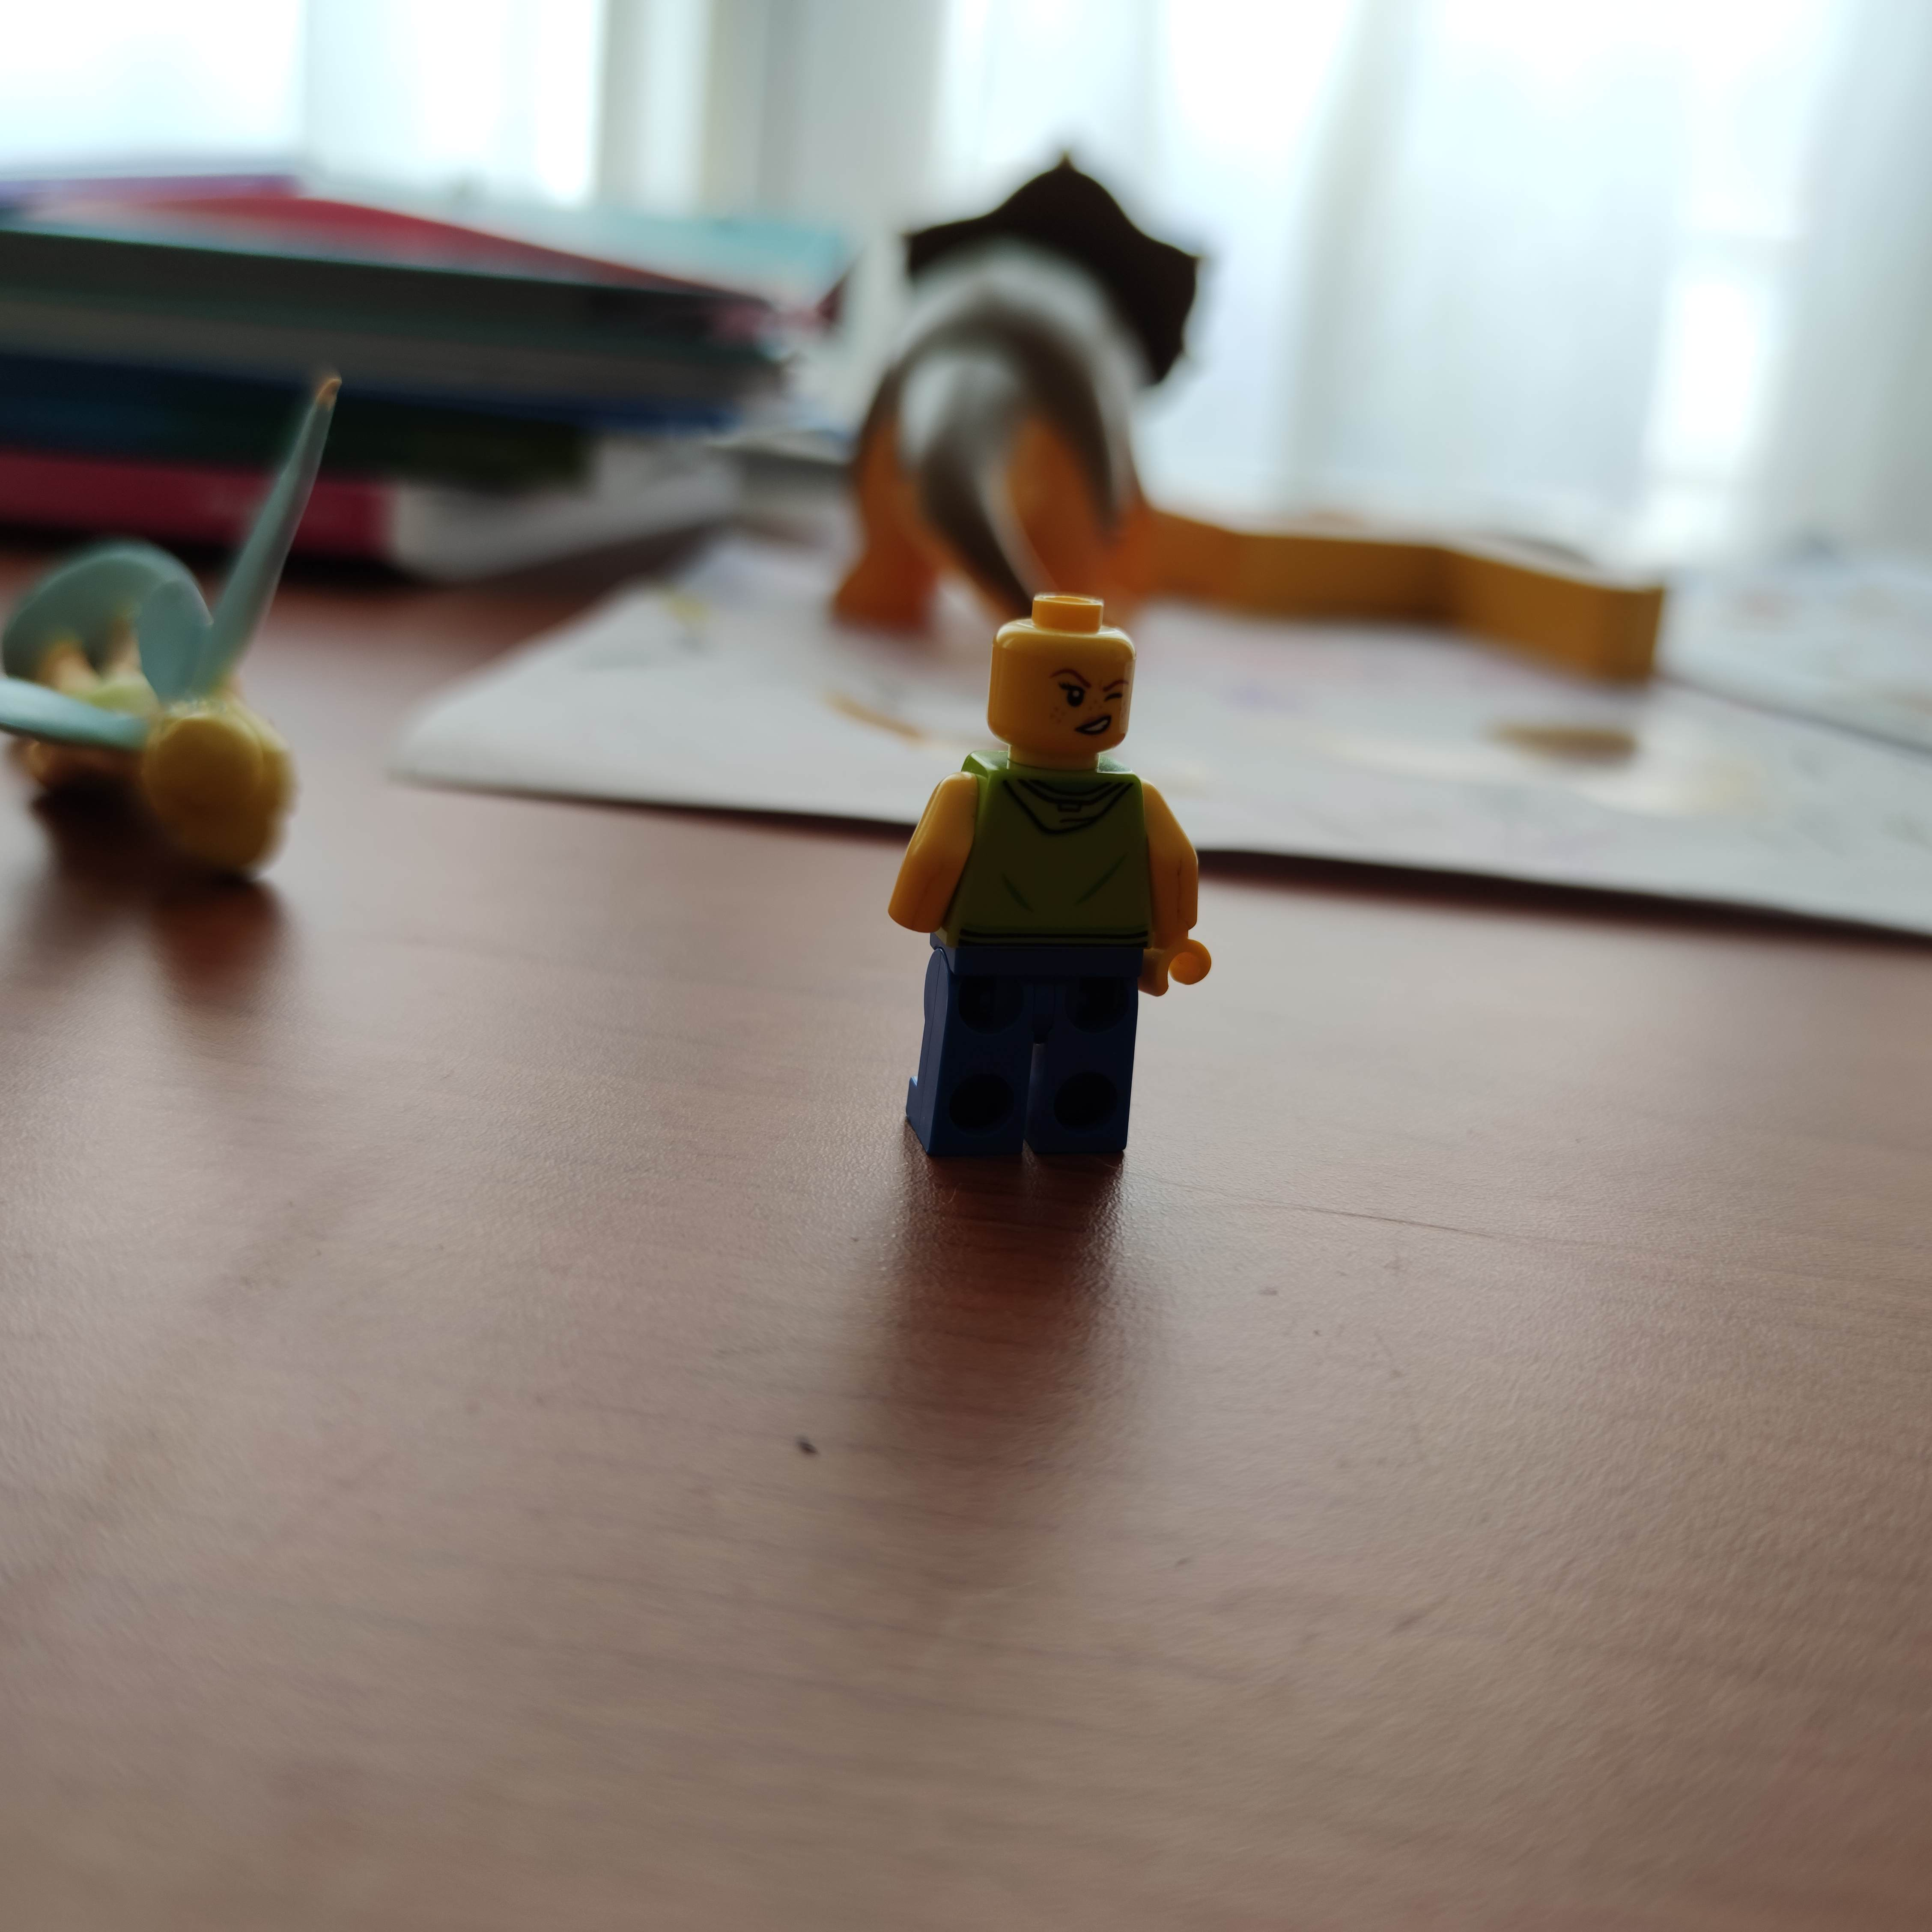lego: (890, 587, 1210, 1169)
